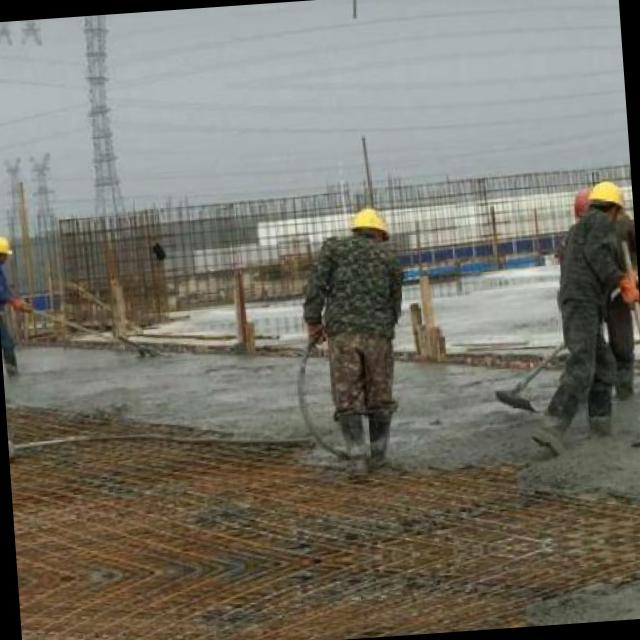helmet: (344, 202, 394, 254), (578, 178, 624, 228), (0, 230, 12, 268)
